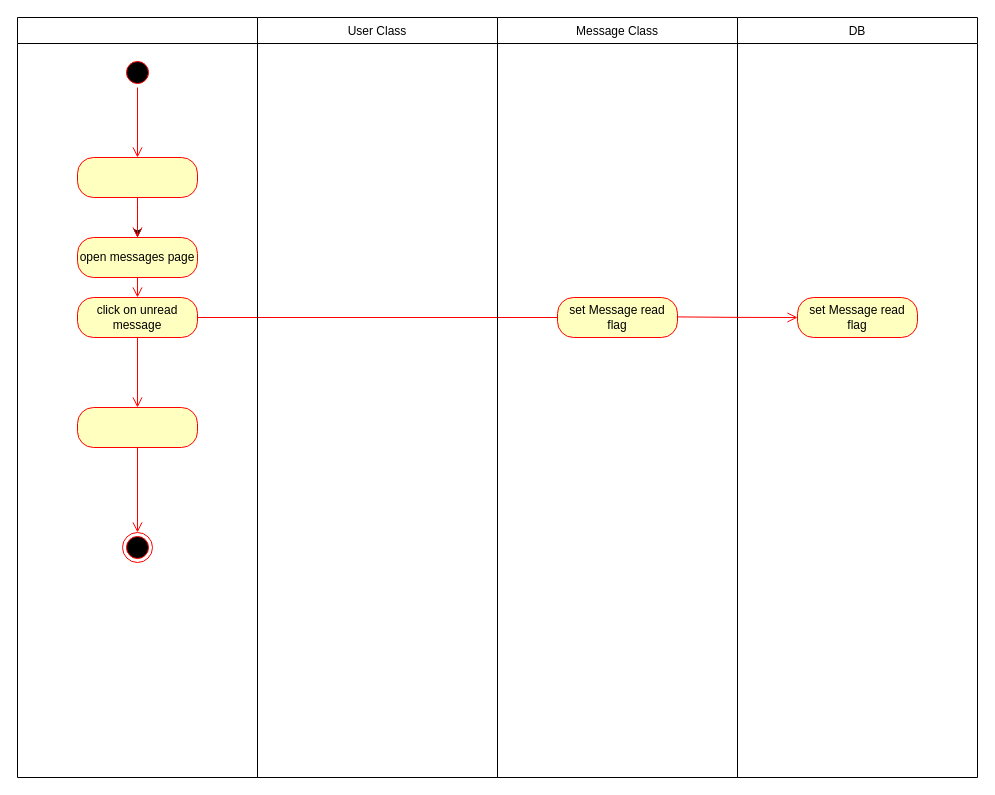
Image size: 995x795. Some labels were removed from this diagram. Each missing label, with the box of its shape:
Frontend: (16, 16, 258, 778)
login user: (76, 156, 198, 198)
show message: (76, 406, 198, 448)
